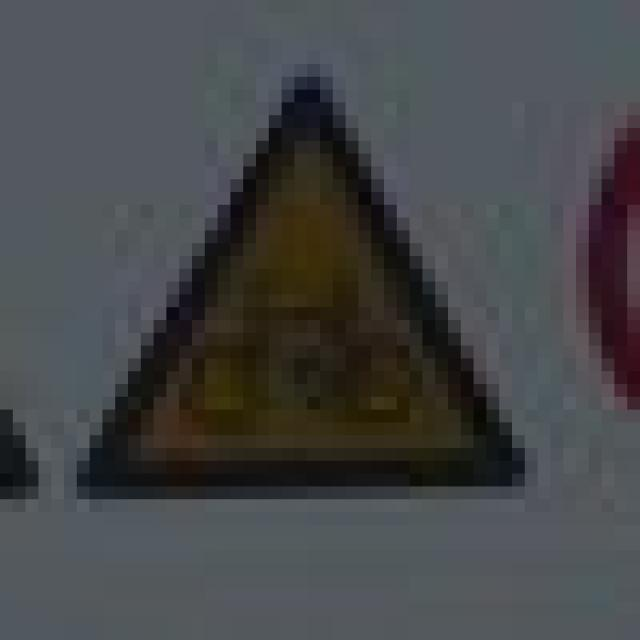CYCLE_CROSSING: (51, 51, 525, 486)
